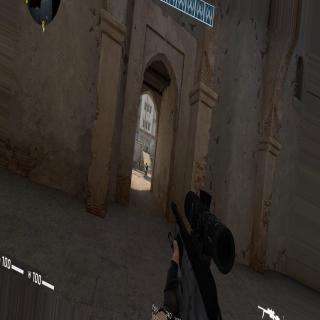CT-Body: (144, 162, 148, 176), (146, 145, 148, 152)
CT-Head: (146, 162, 147, 165), (146, 145, 147, 147)
